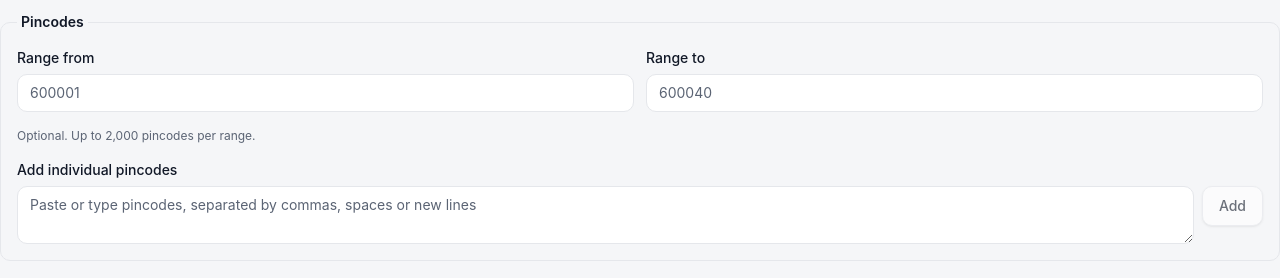
Test: pincode editor › a range over 2,000 pincodes says so before saving
The image size is (1280, 278).
Step 1. Type "600000" into the field labelled "Range from" → (326, 93), box x1=17 y1=74 x2=634 y2=112
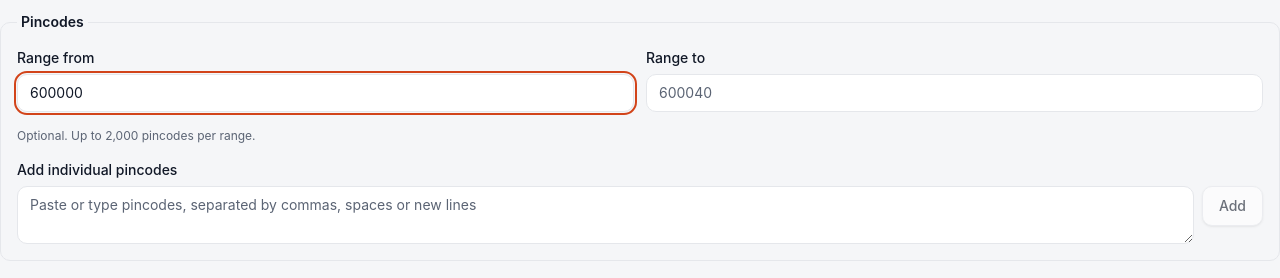
Step 2. Type "603000" into the field labelled "Range to" → (954, 93), box x1=646 y1=74 x2=1263 y2=112
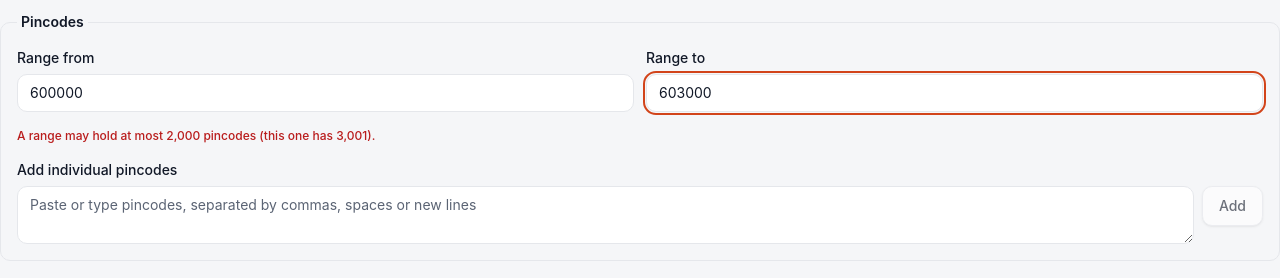
Result: the text "at most 2,000 pincodes (this one has 3,001)" is shown at x1=17 y1=128 x2=375 y2=143
Step 3. Replace the text in the field labelled "Range to" with "600099" → (954, 93), box x1=646 y1=74 x2=1263 y2=112
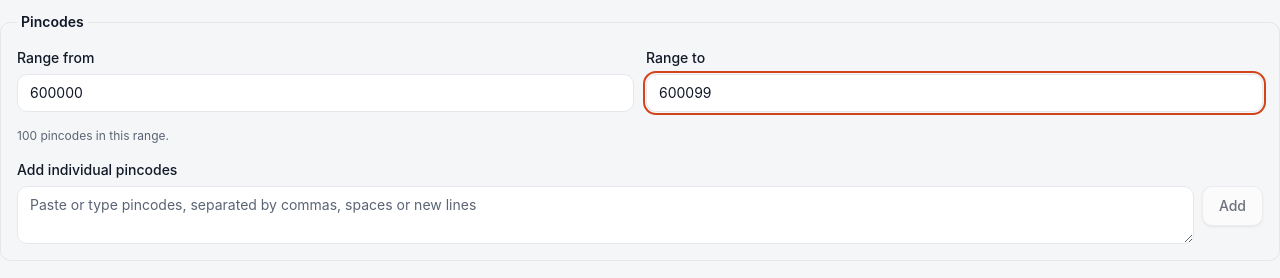
Result: the text "100 pincodes in this range." is shown at x1=17 y1=128 x2=169 y2=143
